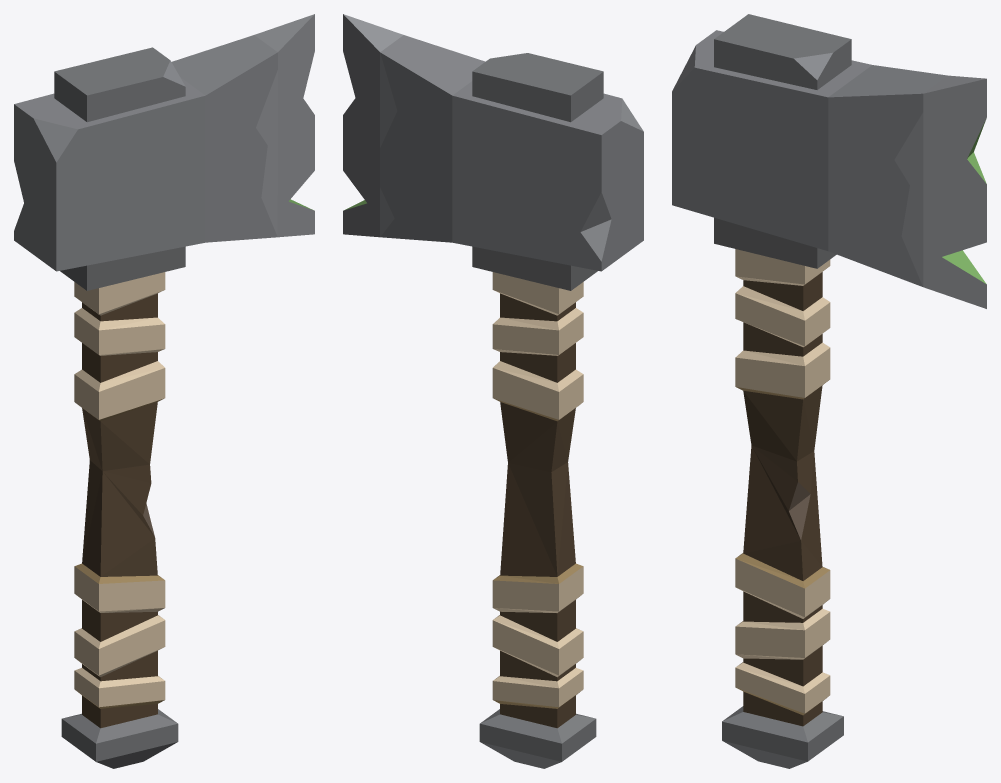
File: SM_Wep_Axe_01.fbx
3 views of the same model, side by side, from view 1: azimuth 30°, elevation 25°; view 2: azimuth 150°, elevation 25°; view 3: azimuth 330°, elevation 25° (orthographic). The views are drawn at different scales.
Visible parts, largest first — view 1: SM_Wep_Axe_01; view 2: SM_Wep_Axe_01; view 3: SM_Wep_Axe_01.
Boxes of the visible parts, x1,y1,x2,y2 form: SM_Wep_Axe_01: [14, 14, 314, 768]; SM_Wep_Axe_01: [343, 14, 643, 768]; SM_Wep_Axe_01: [672, 14, 986, 768].
Bounding box in the file's own units: 0.00298 × 0.00709 × 0.000782.
1 material, 1 textured.
